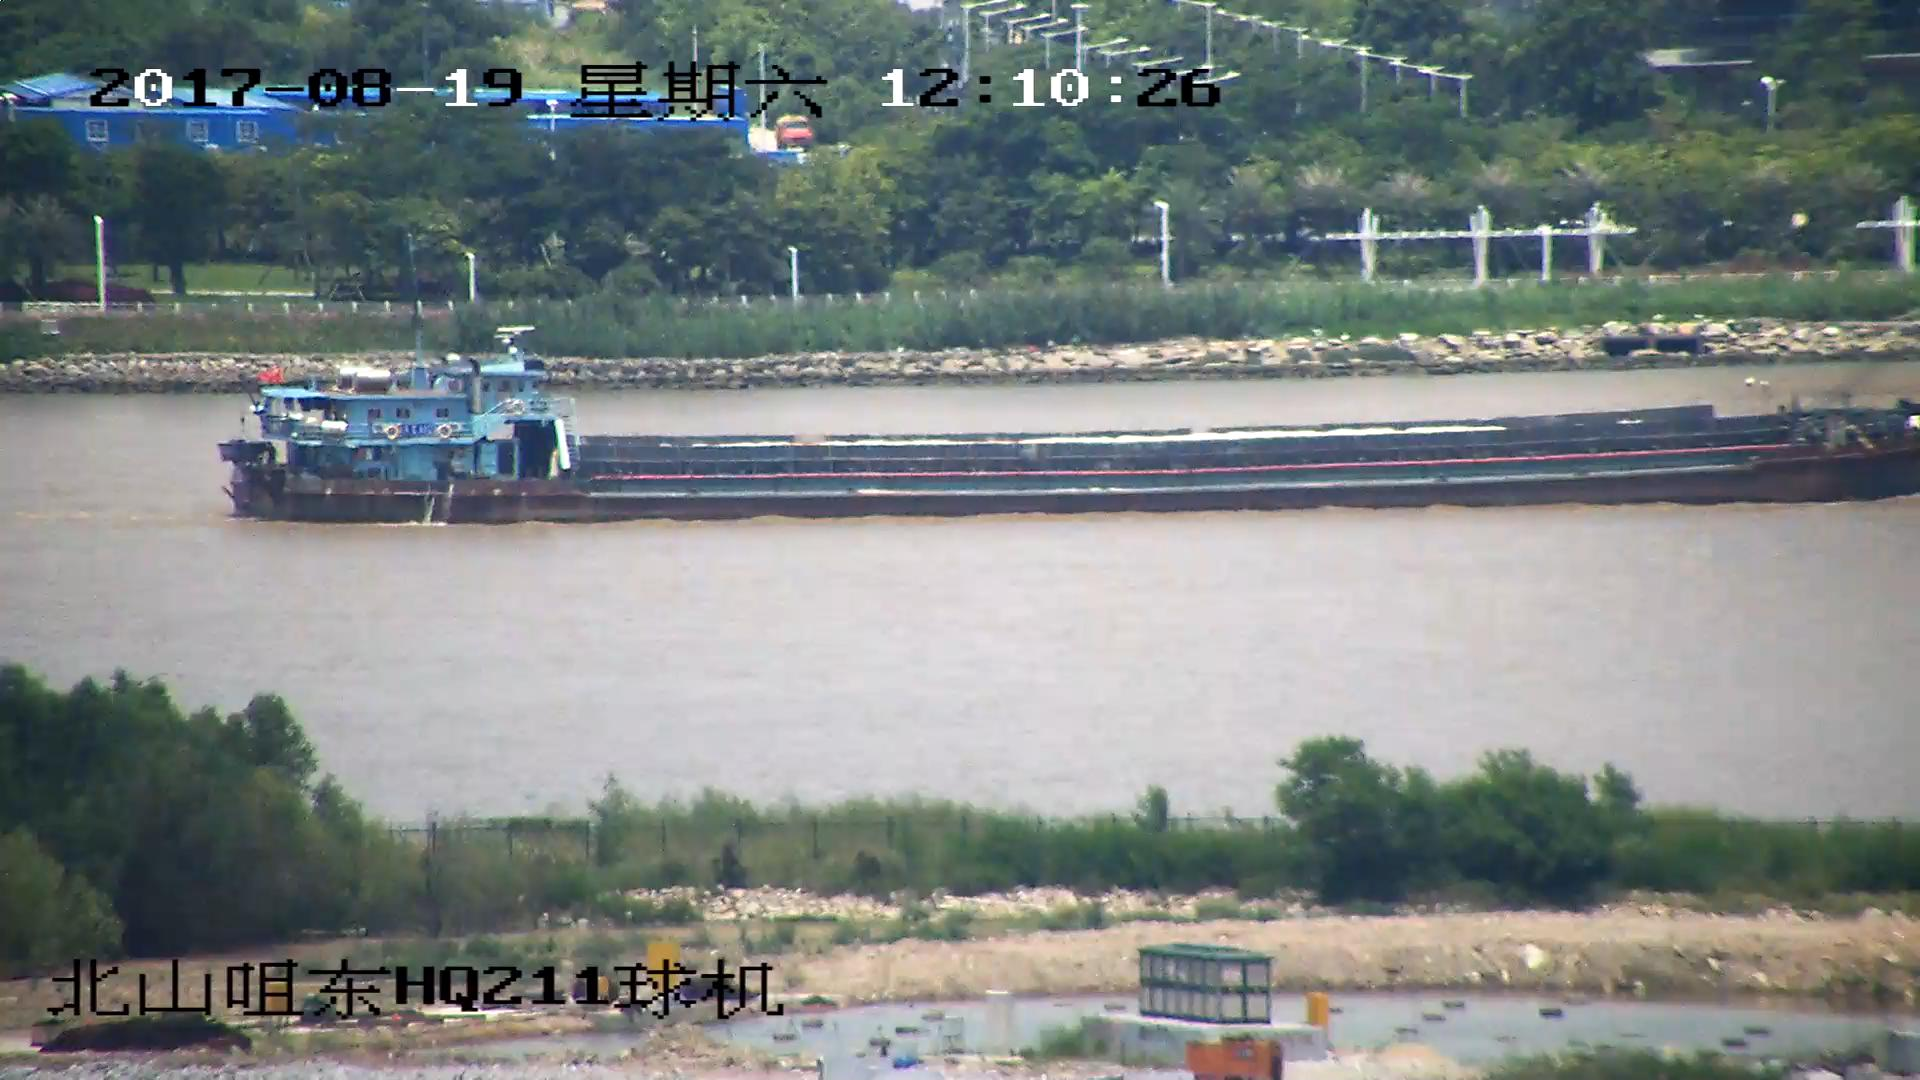bulk cargo carrier: (225, 326, 1920, 527)
